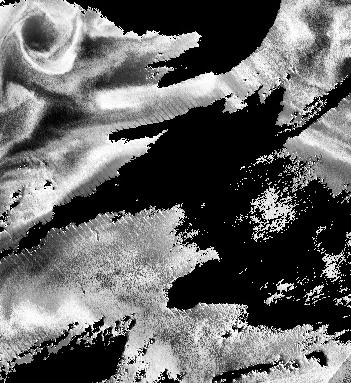AE: (17, 7, 82, 73)
